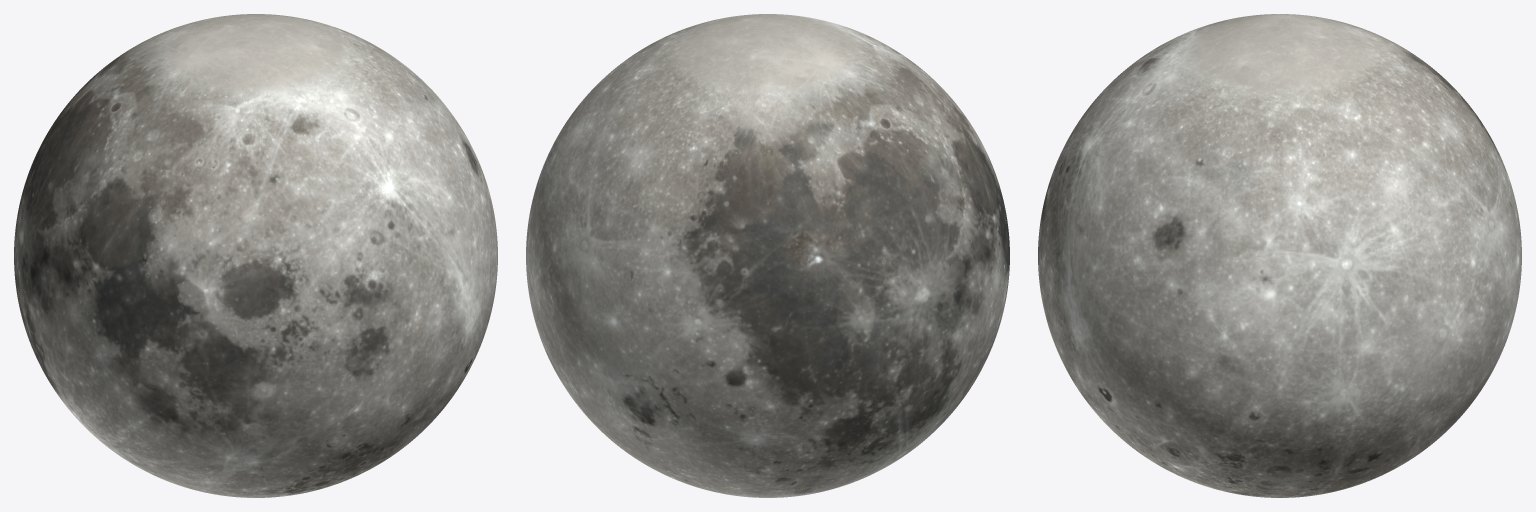
Rendered from moon.glb.
The picture shows the model from 3 angles, left to right: view 1: azimuth 30°, elevation 25°; view 2: azimuth 150°, elevation 25°; view 3: azimuth 270°, elevation 25°; orthographic projection.
Parts seen in each view (by area): view 1: pSphere1; view 2: pSphere1; view 3: pSphere1.
Part boxes in pixels (<box>): pSphere1: <box>14,14,497,497</box>; pSphere1: <box>526,14,1009,497</box>; pSphere1: <box>1038,14,1521,497</box>.
Size of the model in its own units: 0.205 by 0.205 by 0.205.
Materials: 1 (1 with a texture image).
